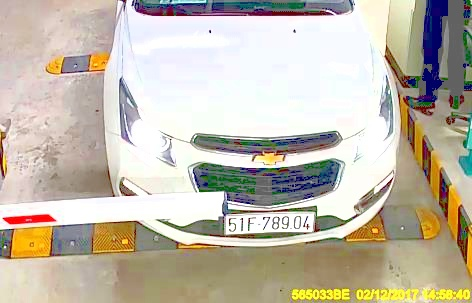plate: (222, 209, 320, 239)
